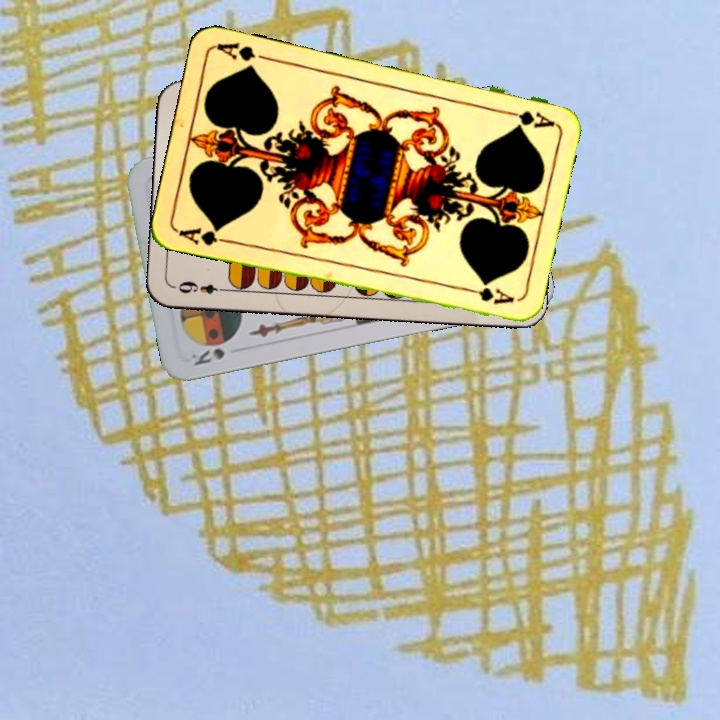E9: (171, 277, 231, 297)
GA: (174, 223, 233, 249), (498, 106, 556, 131)
SK: (187, 344, 228, 369)
